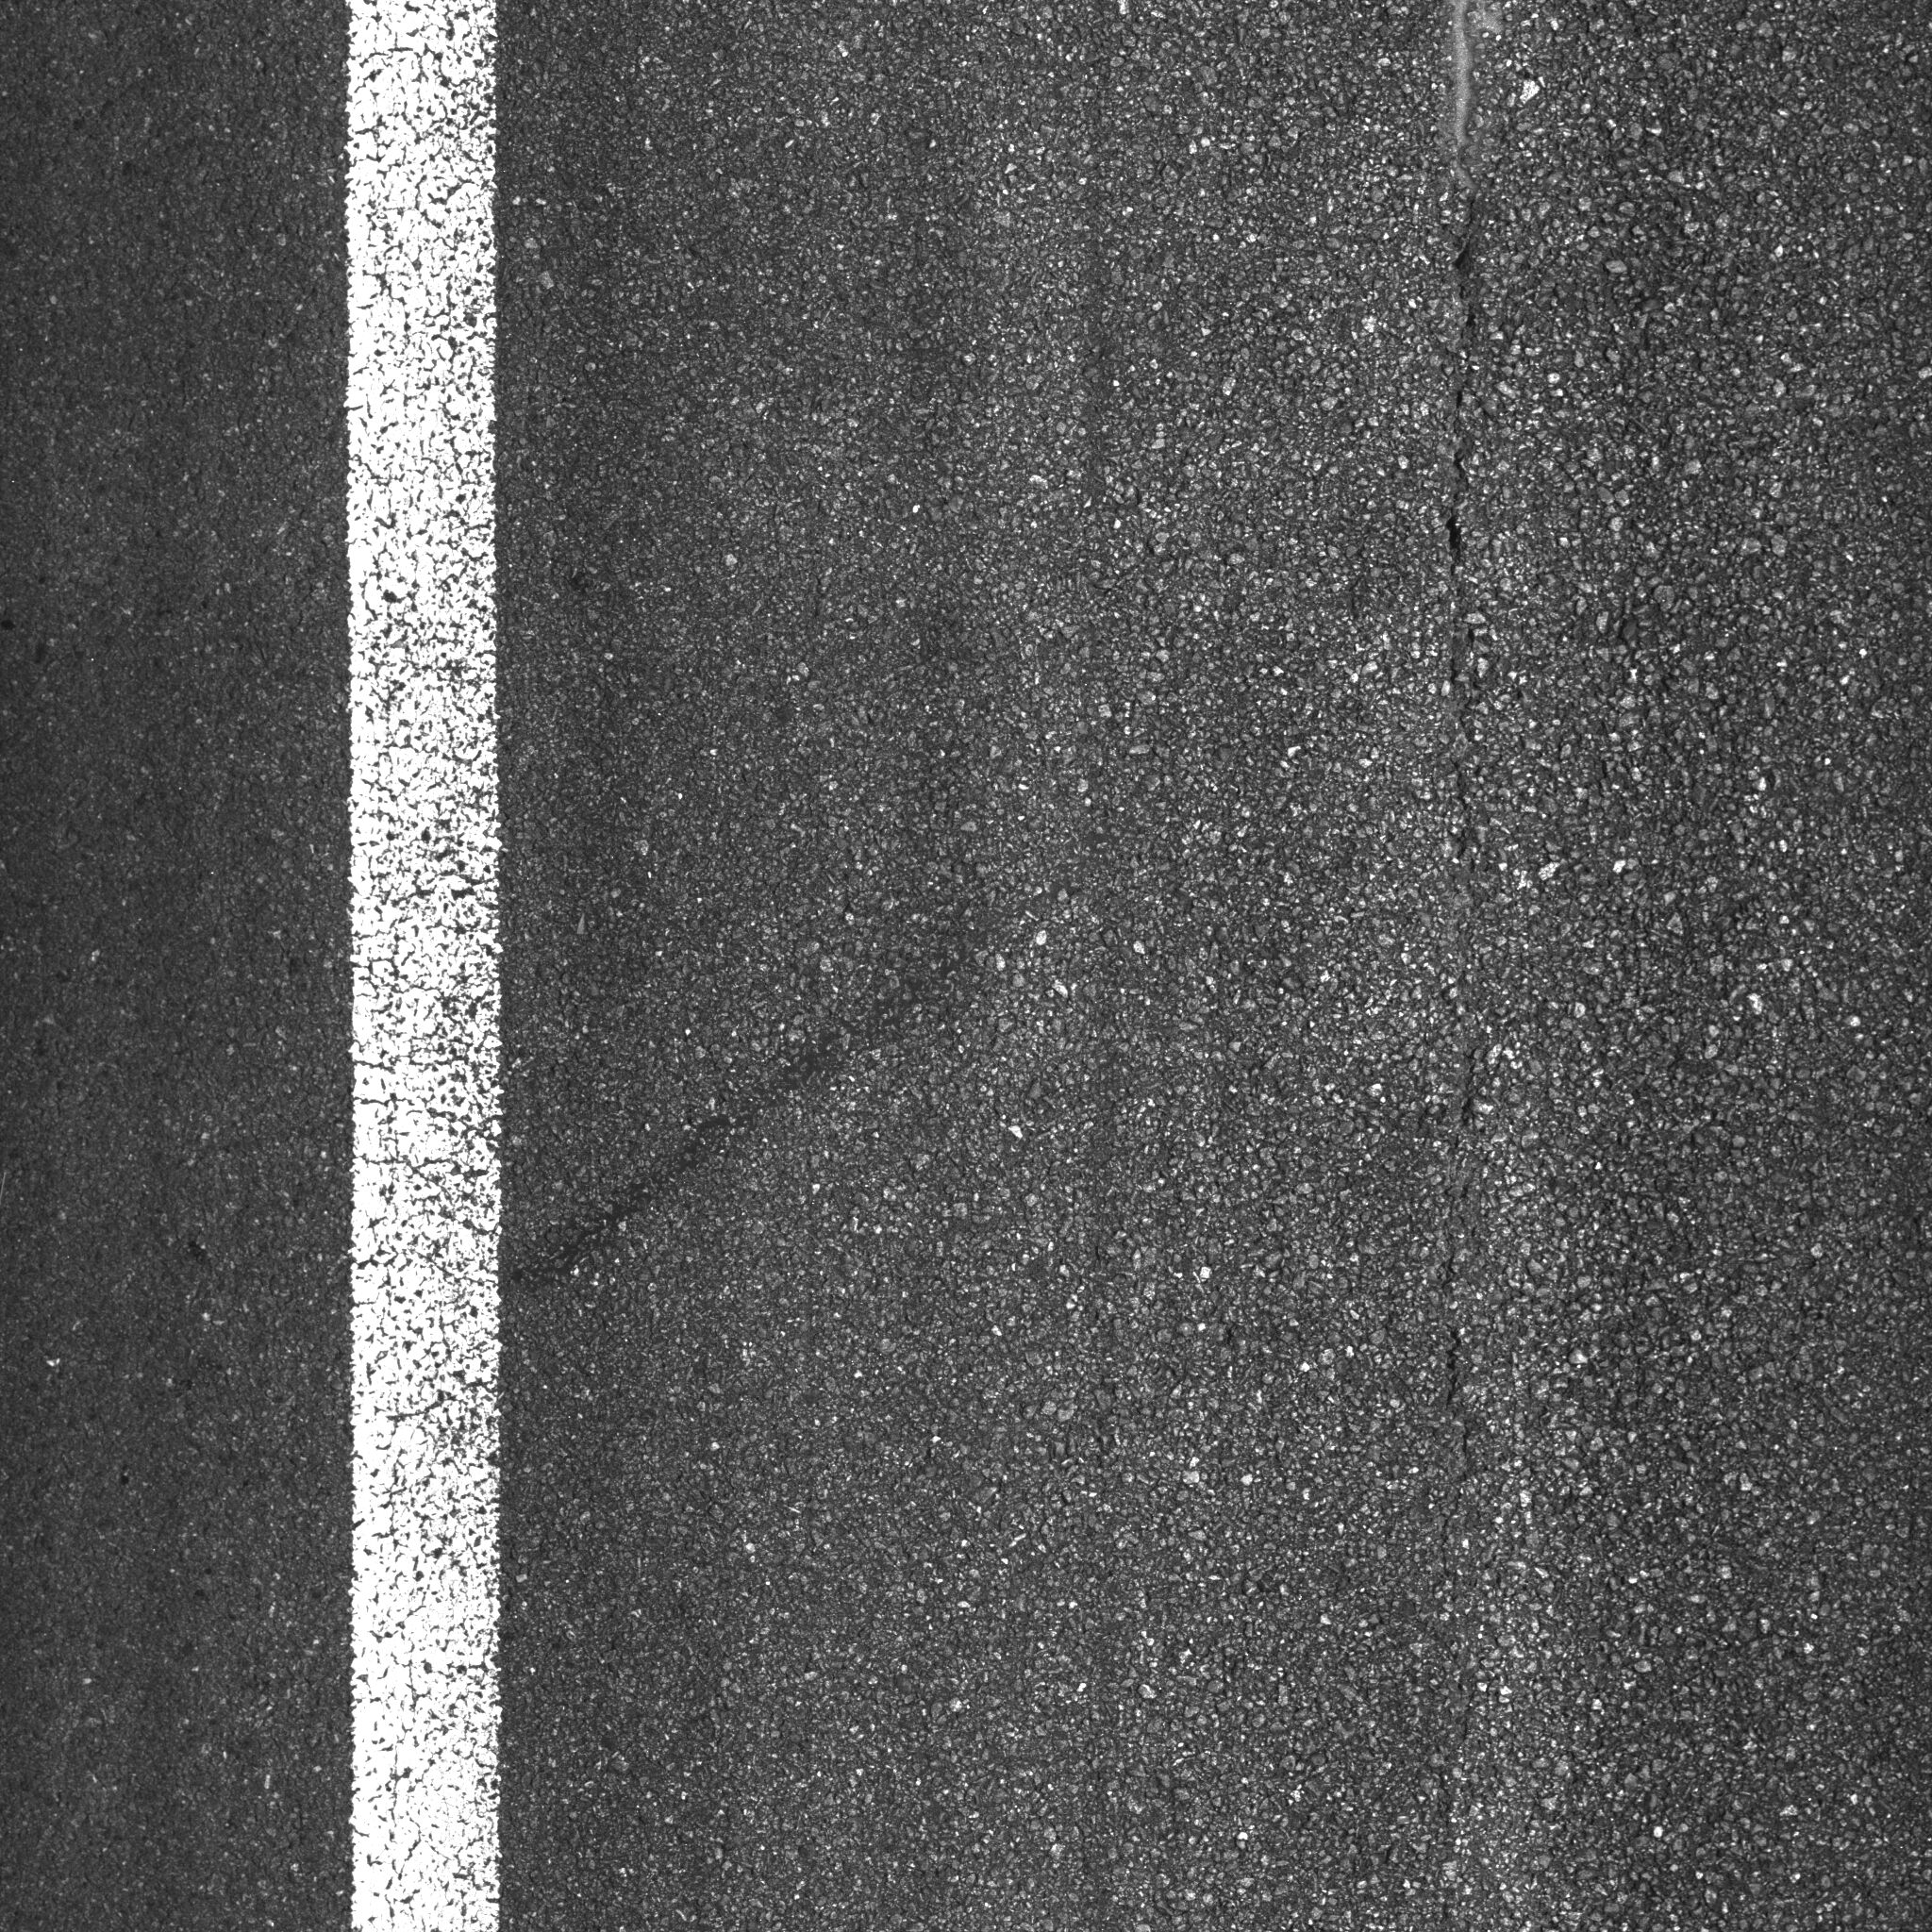longitudinal: (1389, 7, 1559, 1631)
